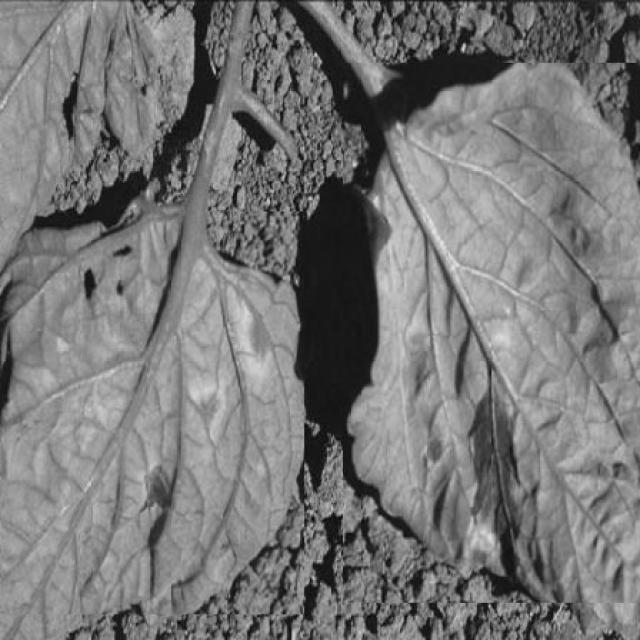Leaf Mold: (343, 64, 640, 604), (2, 212, 304, 615)
